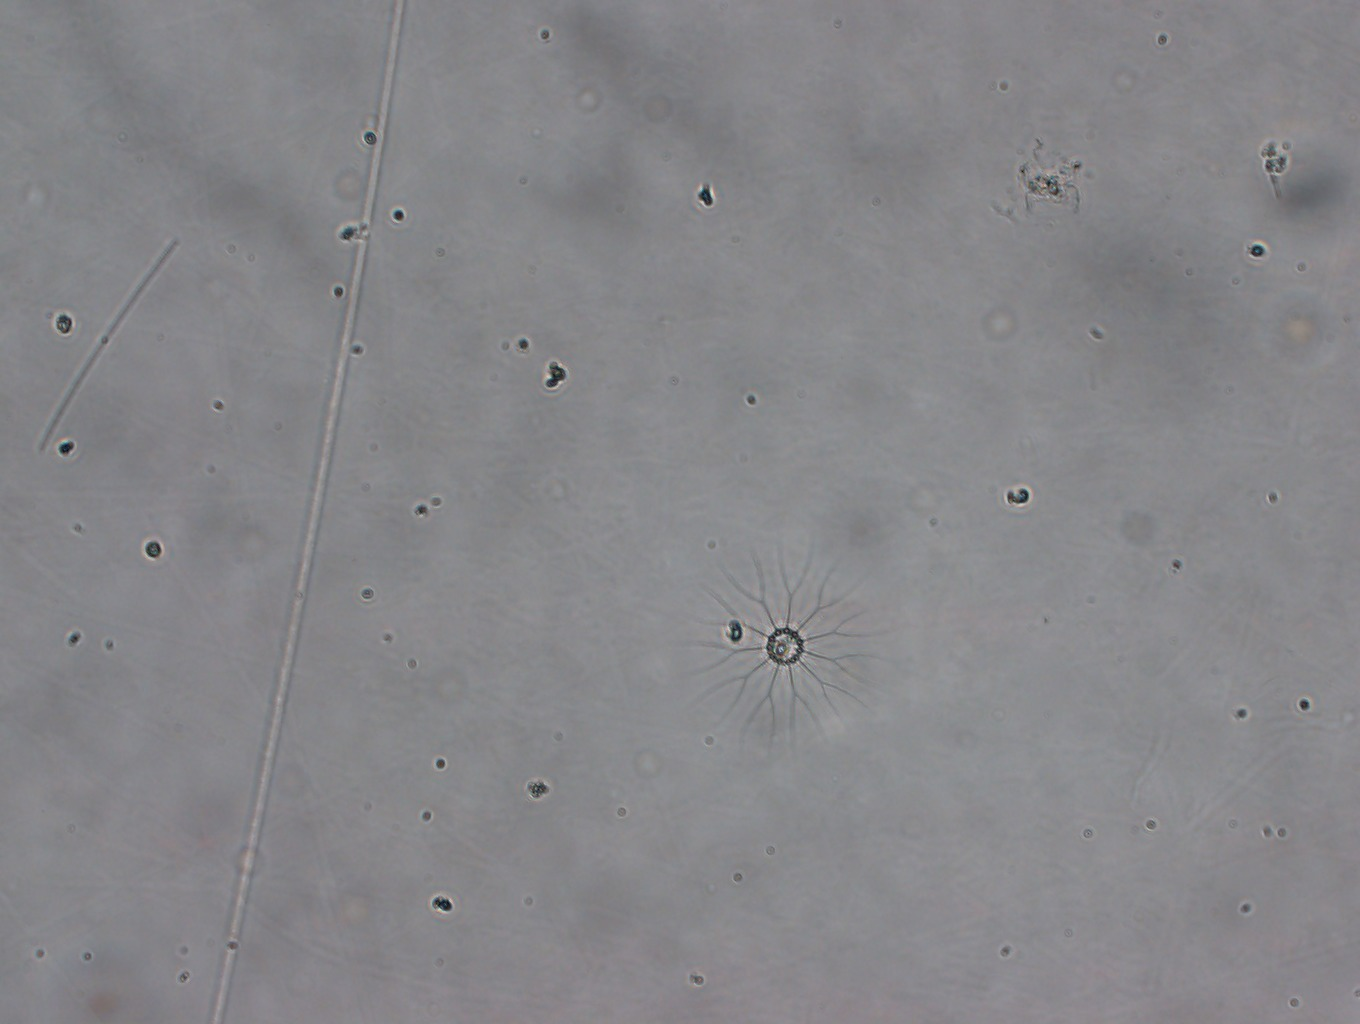bacteriastrum: (668, 536, 899, 748)
